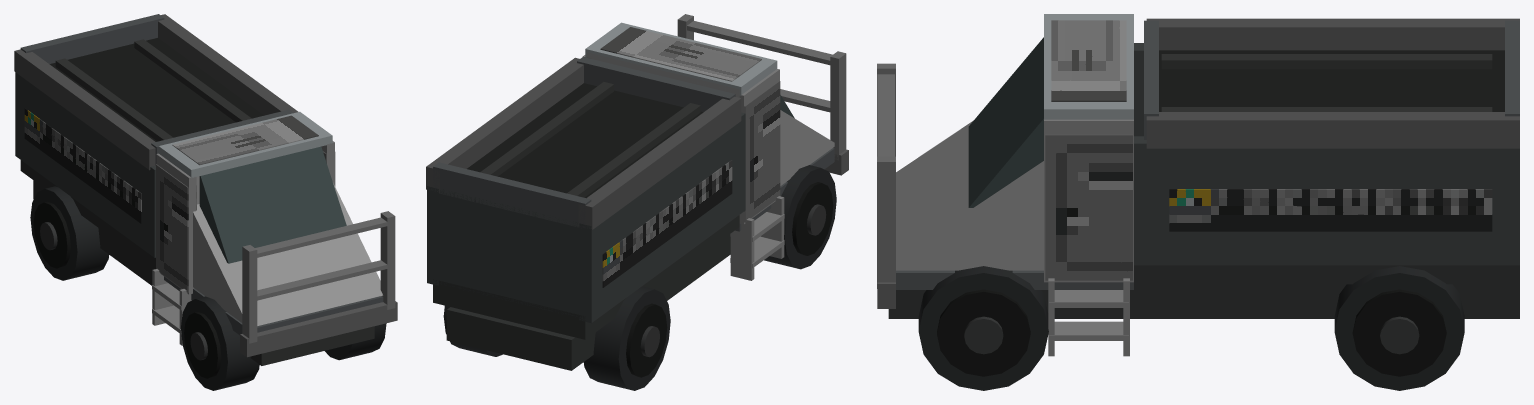
Rendered from CMU3DRMCPropVehicleLoaderTruckBlackVehicleFinalCloud.glb.
3 views of the same model, side by side, from view 1: azimuth 30°, elevation 25°; view 2: azimuth 150°, elevation 25°; view 3: azimuth 270°, elevation 25° (orthographic). The views are drawn at different scales.
Parts seen in each view (by area): view 1: inclined loader windshield, inclined loader hood, loader side cargo wall -1, empty recessed deck, raised empty-deck side lip -1, empty bed transverse rim (×2), original SECURITY mark -1, raised empty-deck side lip 1, original loader door hardware -1, empty deck raised channel (×2), front guard low bumper, original loader roof hatch (+16 smaller); view 2: rear lower cargo wall, loader side cargo wall -1, empty recessed deck, empty bed transverse rim (×2), loader chassis, raised empty-deck side lip -1, cargo lower floor, raised empty-deck side lip 1, original SECURITY mark -1, empty deck raised channel (×2), original loader door hardware -1, original loader roof hatch (+17 smaller); view 3: loader side cargo wall 1, inclined loader hood, empty recessed deck, original SECURITY mark 1, raised empty-deck side lip 1, original loader door hardware 1, raised empty-deck side lip -1, loader chassis, inclined loader windshield, empty deck raised channel (×2), tire 1 1, tire 0 1 (+14 smaller).
Boxes of the visible parts, bbox=[...] form: inclined loader windshield: bbox=[199, 146, 346, 263]; inclined loader hood: bbox=[193, 183, 382, 325]; loader side cargo wall -1: bbox=[15, 72, 155, 257]; empty recessed deck: bbox=[49, 38, 263, 141]; raised empty-deck side lip -1: bbox=[14, 49, 155, 170]; empty bed transverse rim (×2): bbox=[20, 14, 293, 165]; original SECURITY mark -1: bbox=[24, 108, 141, 223]; raised empty-deck side lip 1: bbox=[158, 14, 298, 115]; original loader door hardware -1: bbox=[156, 164, 196, 292]; empty deck raised channel (×2): bbox=[55, 39, 251, 141]; front guard low bumper: bbox=[240, 301, 397, 357]; original loader roof hatch: bbox=[172, 115, 318, 165]; rear lower cargo wall: bbox=[433, 189, 585, 318]; loader side cargo wall -1: bbox=[579, 112, 745, 323]; empty recessed deck: bbox=[467, 83, 703, 198]; empty bed transverse rim (×2): bbox=[433, 57, 735, 228]; loader chassis: bbox=[446, 234, 730, 370]; raised empty-deck side lip -1: bbox=[578, 96, 741, 229]; cargo lower floor: bbox=[433, 215, 739, 339]; raised empty-deck side lip 1: bbox=[426, 57, 583, 192]; original SECURITY mark -1: bbox=[602, 160, 732, 287]; empty deck raised channel (×2): bbox=[480, 82, 700, 197]; original loader door hardware -1: bbox=[744, 80, 780, 222]; original loader roof hatch: bbox=[600, 27, 761, 81]; loader side cargo wall 1: bbox=[1134, 136, 1519, 265]; inclined loader hood: bbox=[896, 121, 1043, 270]; empty recessed deck: bbox=[1159, 50, 1504, 111]; original SECURITY mark 1: bbox=[1169, 189, 1492, 231]; raised empty-deck side lip 1: bbox=[1146, 112, 1519, 148]; original loader door hardware 1: bbox=[1045, 134, 1132, 280]; raised empty-deck side lip -1: bbox=[1146, 18, 1519, 50]; loader chassis: bbox=[888, 284, 1519, 318]; inclined loader windshield: bbox=[968, 37, 1043, 207]; empty deck raised channel (×2): bbox=[1161, 54, 1492, 111]; tire 1 1: bbox=[1334, 266, 1464, 390]; tire 0 1: bbox=[918, 266, 1048, 390].
Size of the model in its own units: 1.1 by 1.22 by 2.57.
20 materials, 3 textured.
